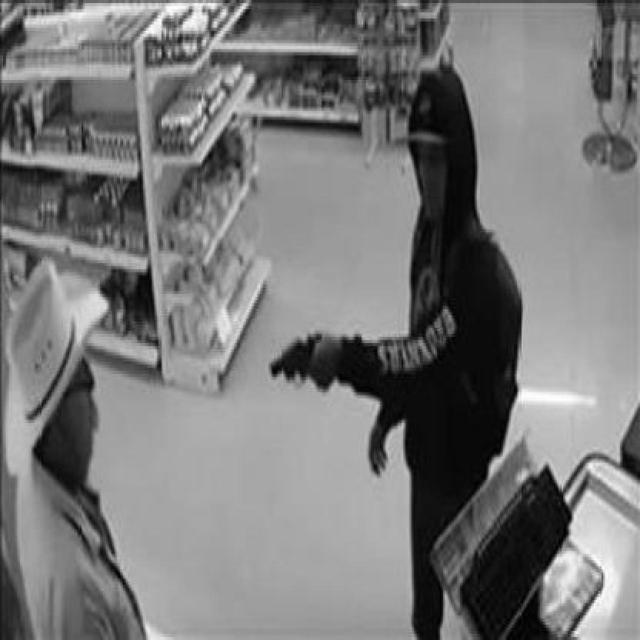weapon: (268, 328, 338, 400)
